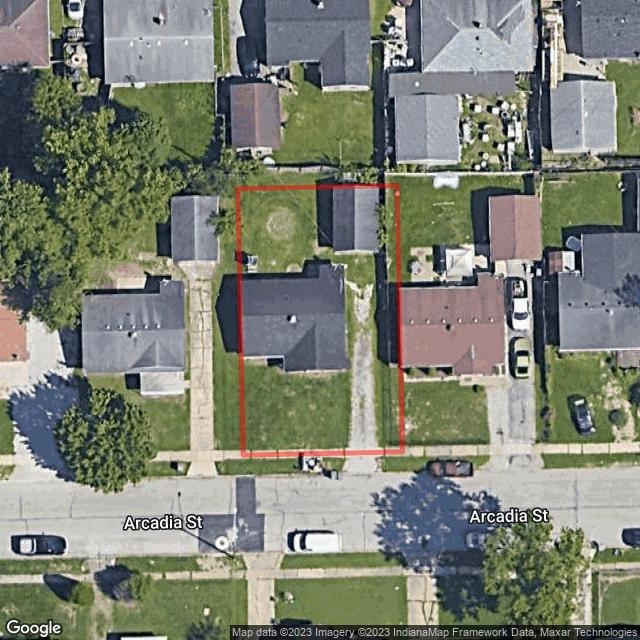Driveway: (350, 284, 378, 450)
Extra Lawn: (242, 459, 301, 475), (378, 456, 405, 472), (321, 457, 347, 472)
House: (242, 260, 348, 371)
Other: (333, 190, 379, 251), (341, 456, 385, 473), (300, 458, 322, 473), (246, 255, 259, 272)
